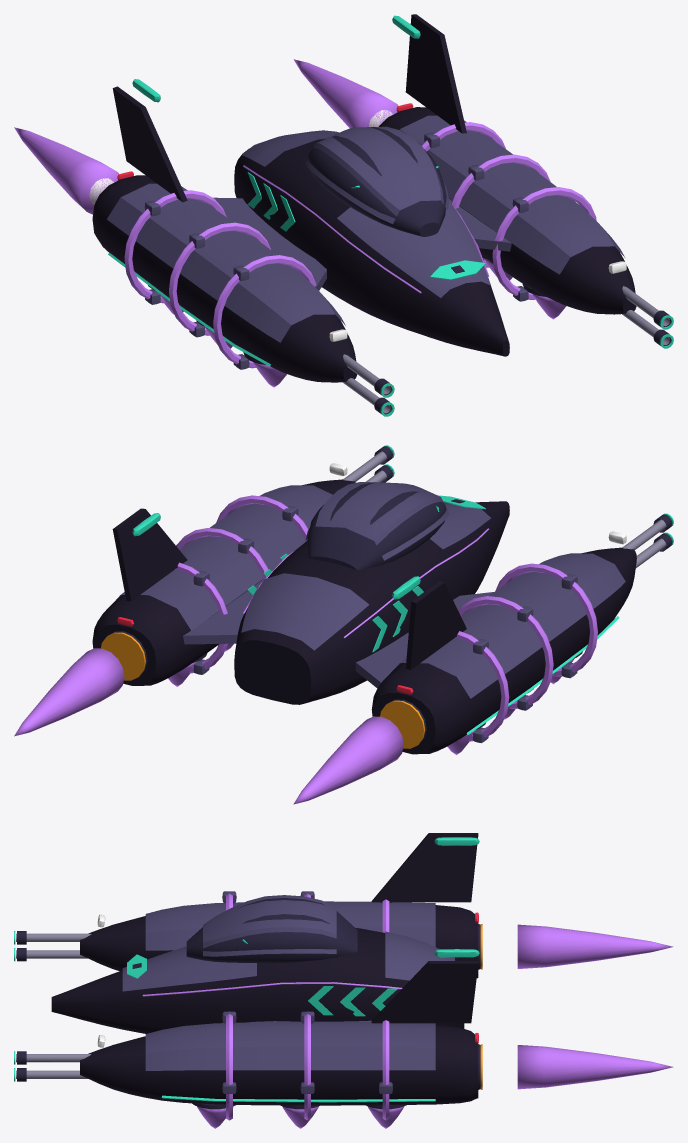
The model's file is skimmer_b.glb.
3 views of the same model, one above another, from view 1: azimuth 30°, elevation 25°; view 2: azimuth 150°, elevation 25°; view 3: azimuth 270°, elevation 25° (orthographic). The views are drawn at different scales.
Parts seen in each view (by area): view 1: fuselage, nacCapL, nacCapR, nacelleL, bridgeCollar, nacelleR, spine1, bridge, finR, finL, plumeL_flame, plumeR_flame (+10 smaller); view 2: fuselage, nacCapL, nacelleL, nacCapR, spine0, nacelleR, bridge, bridgeCollar, plumeL_flame, plumeR_flame, finR, finL (+11 smaller); view 3: fuselage, nacelleR, nacCapR, nacCapL, finL, bridgeCollar, finR, bridge, nacelleL, plumeL_flame, plumeR_flame, spine1 (+10 smaller).
Boxes of the visible parts, x1=… form: fuselage: x1=234, y1=138, x2=509, y2=356; nacCapL: x1=107, y1=183, x2=345, y2=342; nacCapR: x1=399, y1=115, x2=625, y2=274; nacelleL: x1=92, y1=175, x2=357, y2=382; bridgeCollar: x1=305, y1=126, x2=449, y2=224; nacelleR: x1=378, y1=107, x2=636, y2=314; spine1: x1=337, y1=201, x2=490, y2=297; bridge: x1=308, y1=127, x2=446, y2=236; finR: x1=405, y1=14, x2=466, y2=133; finL: x1=112, y1=86, x2=187, y2=202; plumeL_flame: x1=14, y1=127, x2=119, y2=214; plumeR_flame: x1=293, y1=59, x2=398, y2=128; fuselage: x1=234, y1=501, x2=509, y2=704; nacCapL: x1=395, y1=553, x2=625, y2=698; nacelleL: x1=371, y1=547, x2=636, y2=754; nacCapR: x1=116, y1=485, x2=332, y2=630; spine0: x1=241, y1=573, x2=369, y2=650; nacelleR: x1=92, y1=479, x2=355, y2=685; bridge: x1=307, y1=482, x2=446, y2=570; bridgeCollar: x1=305, y1=482, x2=448, y2=560; plumeL_flame: x1=293, y1=716, x2=403, y2=804; plumeR_flame: x1=14, y1=648, x2=124, y2=736; finR: x1=112, y1=508, x2=187, y2=601; finL: x1=405, y1=580, x2=466, y2=669; fuselage: x1=51, y1=928, x2=464, y2=1033; nacelleR: x1=80, y1=1025, x2=478, y2=1105; nacCapR: x1=145, y1=1021, x2=435, y2=1070; nacCapL: x1=145, y1=901, x2=435, y2=950; finL: x1=371, y1=833, x2=478, y2=902; bridgeCollar: x1=203, y1=895, x2=336, y2=956; finR: x1=371, y1=961, x2=478, y2=1023; bridge: x1=186, y1=898, x2=357, y2=963; nacelleL: x1=80, y1=905, x2=478, y2=978; plumeL_flame: x1=517, y1=924, x2=673, y2=968; plumeR_flame: x1=517, y1=1045, x2=673, y2=1089; spine1: x1=122, y1=946, x2=256, y2=991.
Size of the model in its own units: 5.53 by 2.71 by 9.28.
